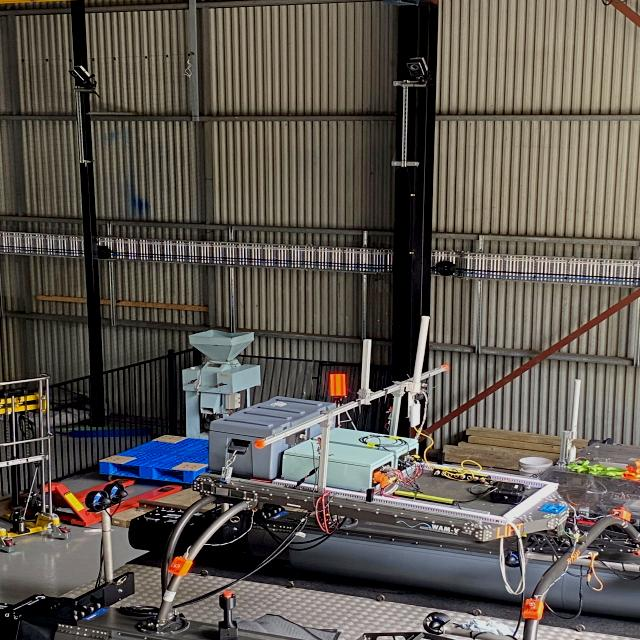matrix: (328, 373, 347, 397)
